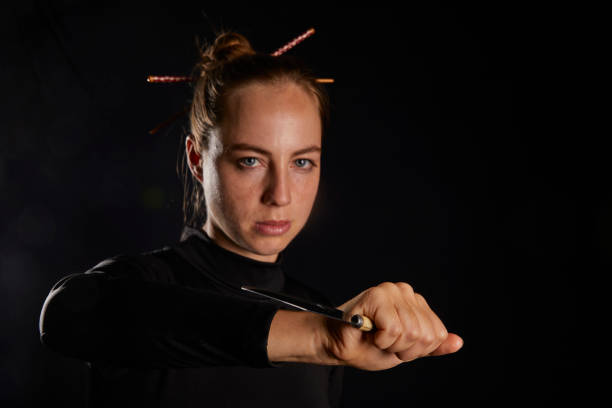knife: (240, 283, 377, 333)
